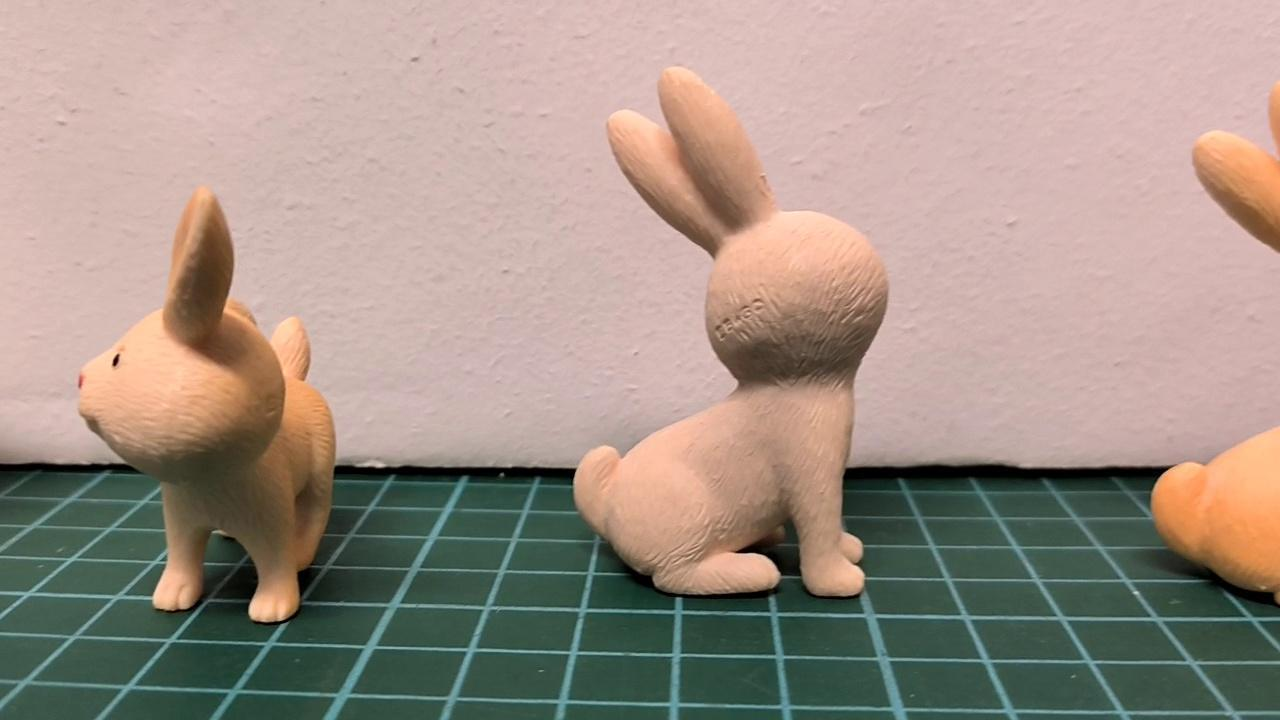pet: (572, 69, 889, 597), (77, 187, 339, 623), (1149, 79, 1280, 609)
